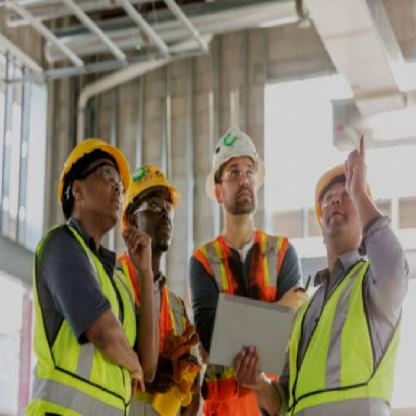vest: (25, 233, 138, 416), (186, 225, 292, 412), (283, 258, 410, 411), (122, 272, 190, 402)
white: (202, 122, 270, 192)
yellow: (53, 132, 136, 200), (115, 158, 183, 216)
